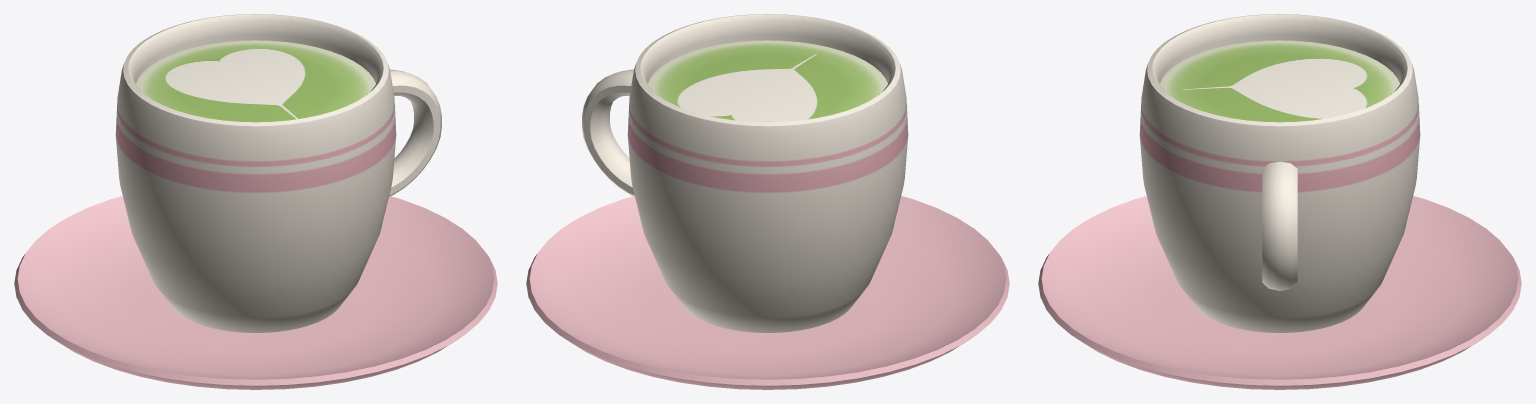
The model's file is MatchaLatte.glb.
3 views of the same model, side by side, from view 1: azimuth 30°, elevation 25°; view 2: azimuth 150°, elevation 25°; view 3: azimuth 270°, elevation 25° (orthographic).
Visible parts, largest first — view 1: MatchaLatte; view 2: MatchaLatte; view 3: MatchaLatte.
Part boxes in pixels (x1,y1,x2,y2): MatchaLatte: [14, 14, 497, 389]; MatchaLatte: [526, 14, 1009, 389]; MatchaLatte: [1038, 14, 1521, 389].
Size of the model in its own units: 1.43 by 0.833 by 1.43.
Materials: 3 (3 with a texture image).
